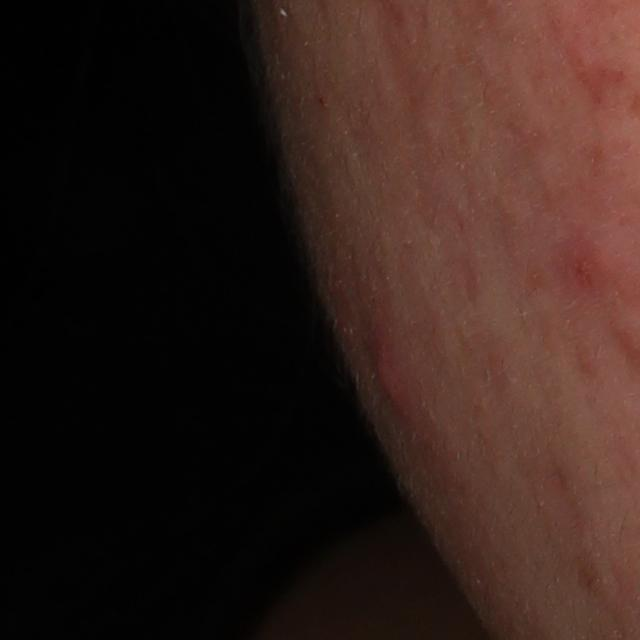papule: (367, 348, 403, 417)
